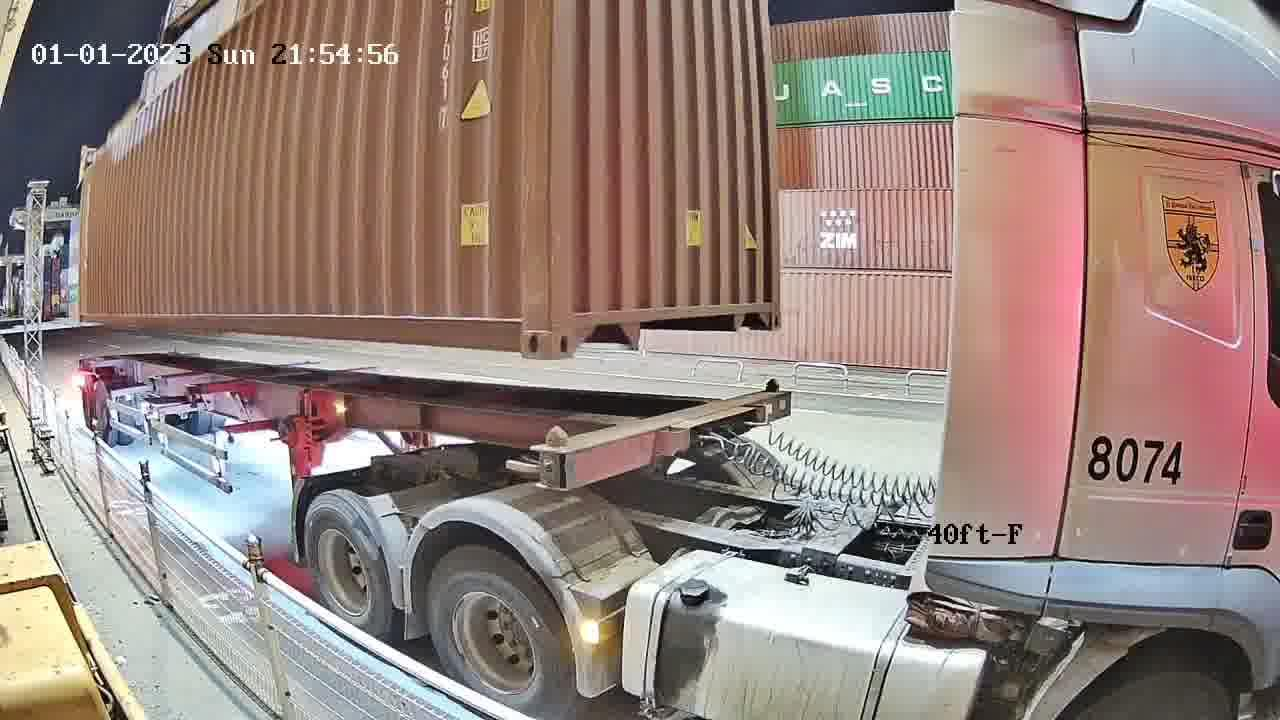Chassis: (527, 389, 790, 484)
Cone: (527, 421, 574, 489), (762, 374, 786, 419)
Hole_L: (549, 288, 609, 357)
Hole_R: (491, 288, 552, 358), (746, 281, 783, 330)
Tire: (427, 549, 570, 714), (300, 497, 391, 632)
